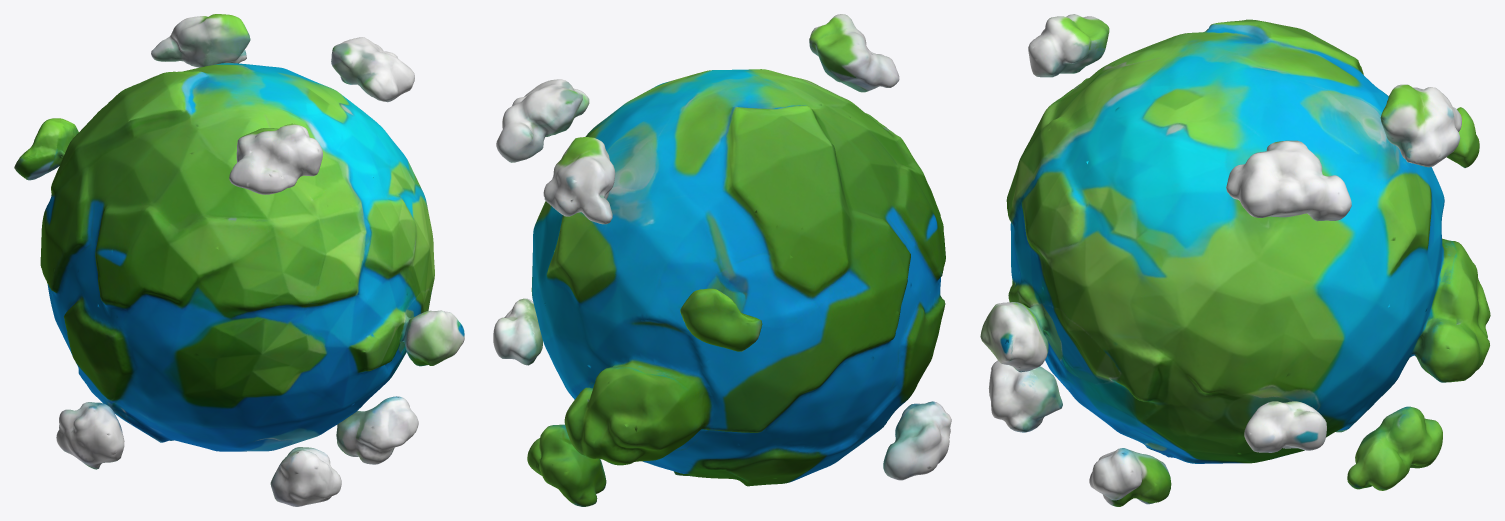
The model's file is Polygon_Planet_1012005902.glb.
3 renders of one model, left to right at view 1: azimuth 30°, elevation 25°; view 2: azimuth 150°, elevation 25°; view 3: azimuth 270°, elevation 25°, orthographic. The views are drawn at different scales.
Bounding box in the file's own units: 1.93 × 1.84 × 1.99.
Materials: 1 (1 with a texture image).
